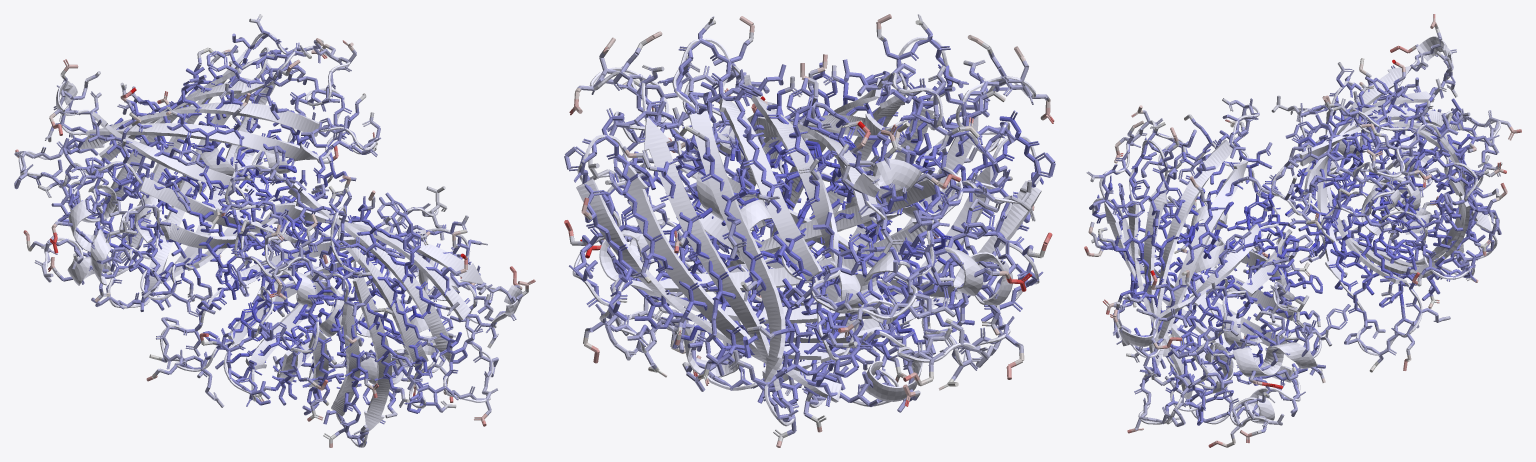
File: 1gfl__cartoon-sticks__b-factor.glb
3 renders of one model, left to right at view 1: azimuth 30°, elevation 25°; view 2: azimuth 150°, elevation 25°; view 3: azimuth 270°, elevation 25°, orthographic. The views are drawn at different scales.
Visible parts, largest first — view 1: Renderer Node; view 2: Renderer Node; view 3: Renderer Node.
Part boxes in pixels (x1,y1,x2,y2): Renderer Node: (14,14,535,447); Renderer Node: (564,14,1055,447); Renderer Node: (1084,14,1521,447).
Size of the model in its own units: 61.4 by 53.8 by 63.05.
